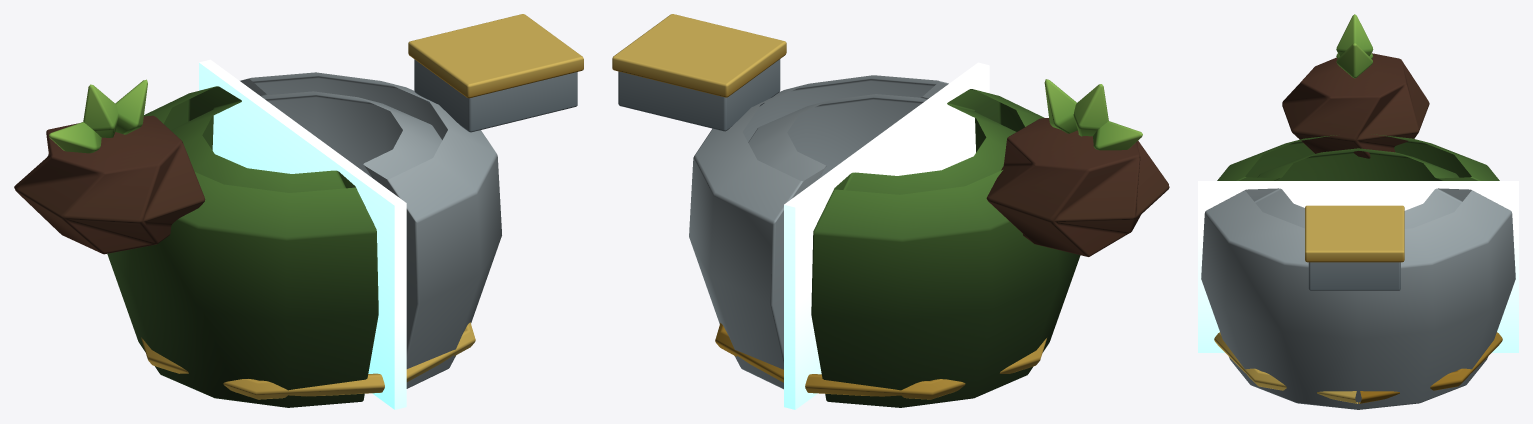
Rendered from lg_severance_raiment.glb.
3 renders of one model, left to right at view 1: azimuth 30°, elevation 25°; view 2: azimuth 150°, elevation 25°; view 3: azimuth 270°, elevation 25°, orthographic. The views are drawn at different scales.
Visible parts, largest first — view 1: lg_severance_raiment, lg_severance_raiment_glow; view 2: lg_severance_raiment, lg_severance_raiment_glow; view 3: lg_severance_raiment, lg_severance_raiment_glow.
Part boxes in pixels (x1,y1,x2,y2): lg_severance_raiment: [14, 14, 583, 407]; lg_severance_raiment_glow: [199, 59, 406, 409]; lg_severance_raiment: [612, 14, 1169, 407]; lg_severance_raiment_glow: [784, 62, 989, 409]; lg_severance_raiment: [1201, 14, 1515, 409]; lg_severance_raiment_glow: [1198, 181, 1518, 352].
Size of the model in its own units: 2.66 by 1.52 by 1.74.
